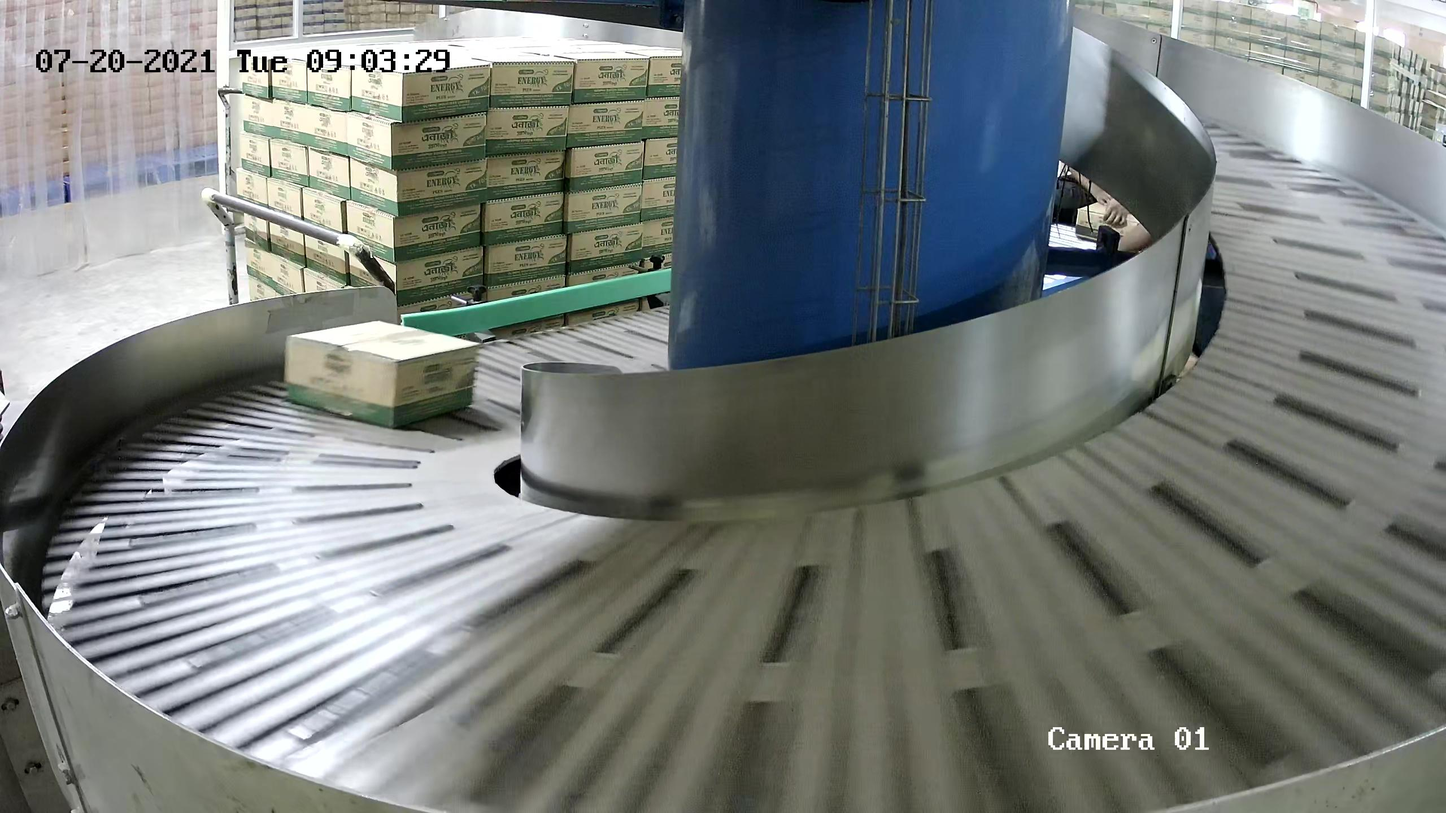Box: (286, 321, 480, 430)
